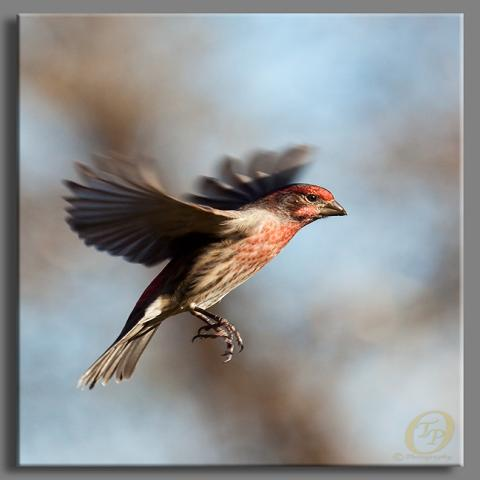bird: (59, 142, 349, 391)
